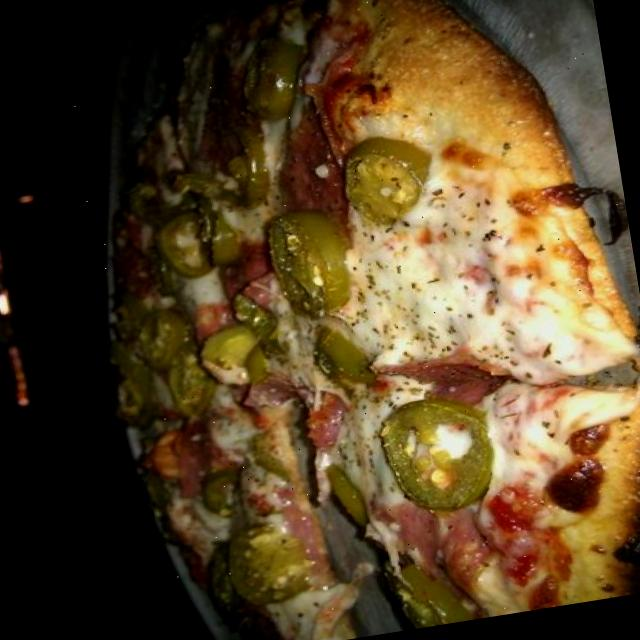pizza: (110, 0, 640, 640)
